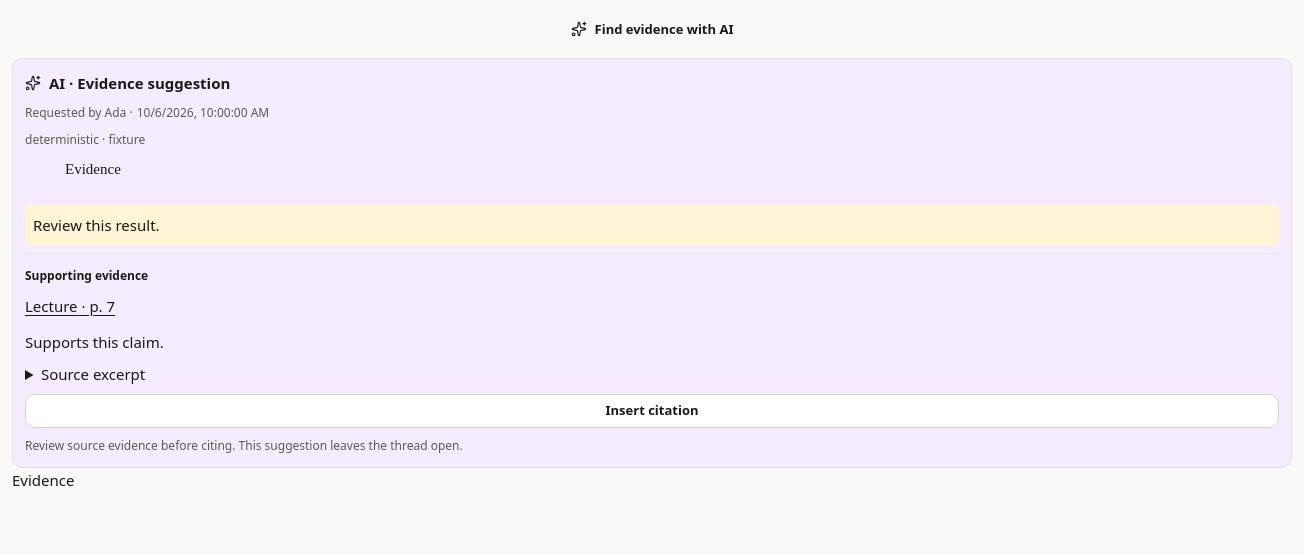
Test: gracefully handles a live deletion or permission loss when inserting
Click the button "Insert citation": (652, 411) [25, 394, 1279, 428]
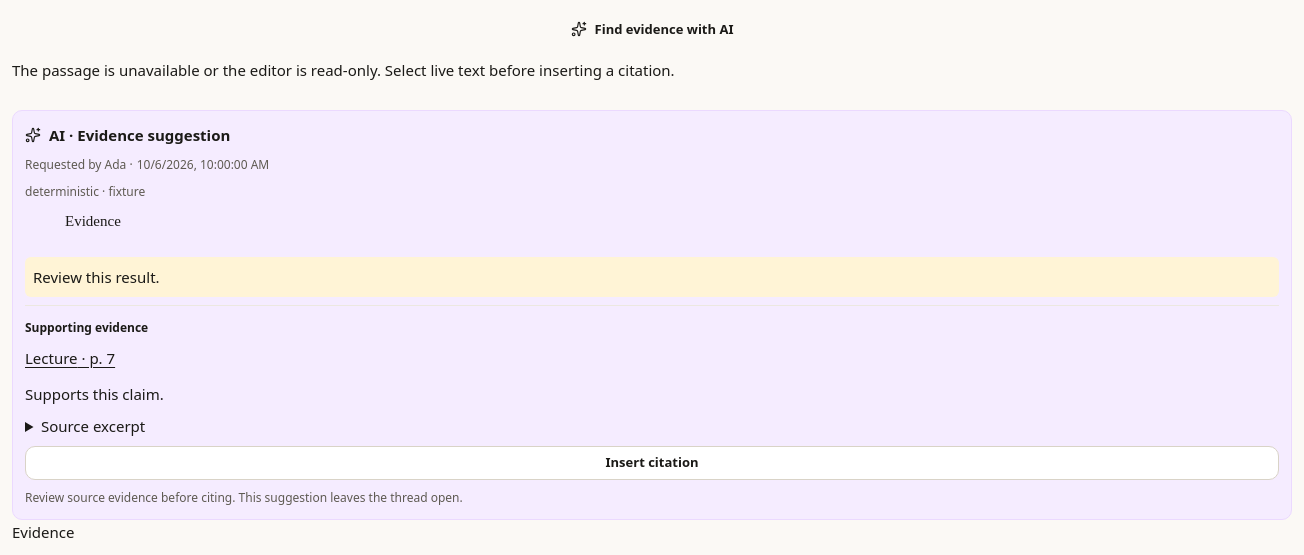
Expected: the message shows "read-only", [12, 60, 675, 80]
